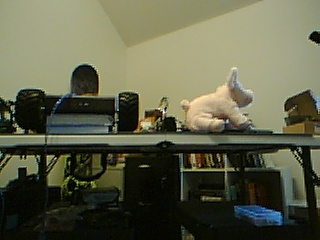piggy: (180, 66, 256, 134)
